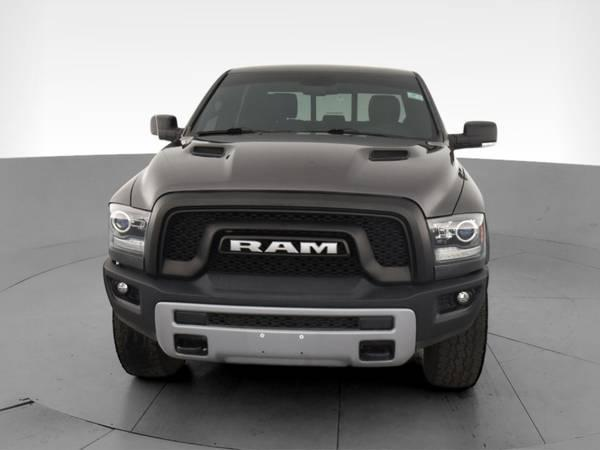Front_Bumper: (102, 260, 489, 370)
Front_Windshield: (184, 74, 440, 141)
Grille: (141, 192, 433, 287)
Hood: (110, 131, 481, 216)
Left_Headlight: (425, 210, 490, 279)
Left_Mirror: (449, 120, 497, 149)
Right_Headlight: (105, 200, 149, 268)
Right_Mirror: (148, 115, 180, 141)
Roof: (221, 60, 421, 80)
Wheel: (423, 300, 488, 391), (113, 312, 187, 376)
